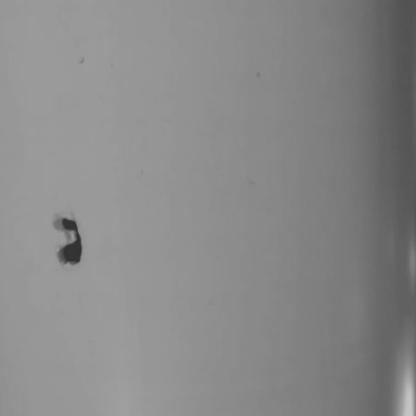kongdong: (52, 211, 92, 268)
